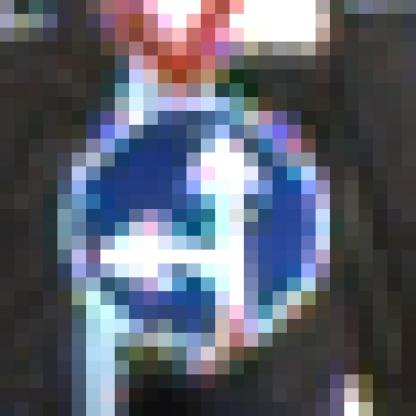Straight or Left: (73, 84, 345, 348)
